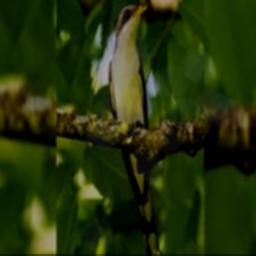Cuckoo: (109, 3, 160, 255)
